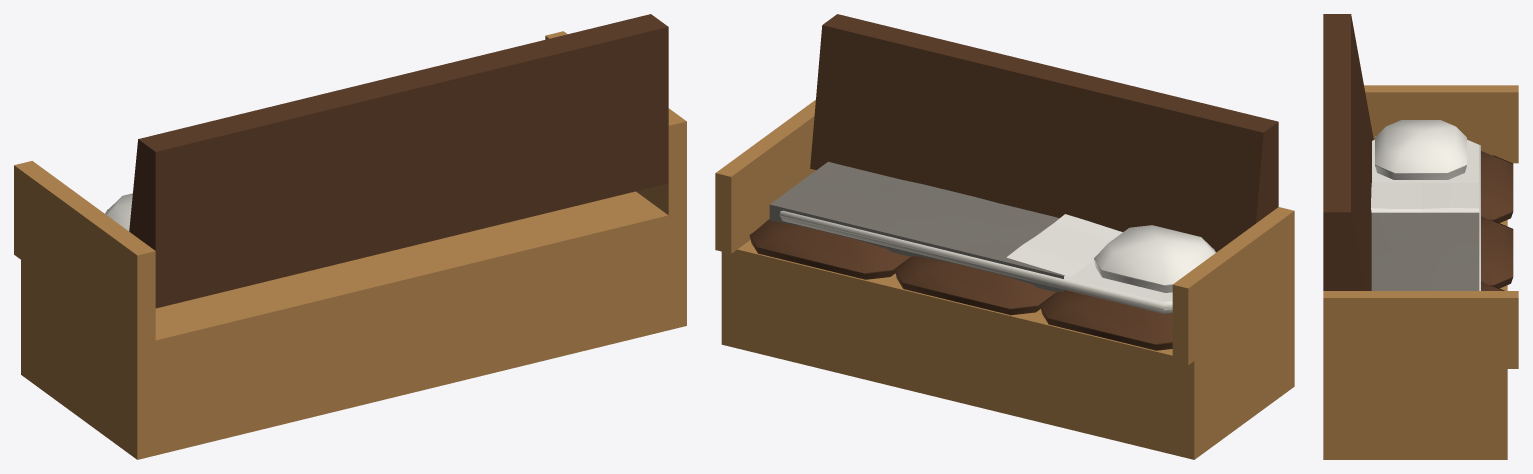
3 views of the same model, side by side, from view 1: azimuth 30°, elevation 25°; view 2: azimuth 150°, elevation 25°; view 3: azimuth 270°, elevation 25° (orthographic). The views are drawn at different scales.
Visible parts, largest first — view 1: parametric-variant-settee-crew-59205b3fe6f62d9334f2; view 2: parametric-variant-settee-crew-59205b3fe6f62d9334f2; view 3: parametric-variant-settee-crew-59205b3fe6f62d9334f2.
Part boxes in pixels (x1,y1,x2,y2): parametric-variant-settee-crew-59205b3fe6f62d9334f2: [14, 14, 686, 459]; parametric-variant-settee-crew-59205b3fe6f62d9334f2: [715, 14, 1294, 459]; parametric-variant-settee-crew-59205b3fe6f62d9334f2: [1323, 14, 1518, 459].
Size of the model in its own units: 1.8 by 0.95 by 0.7.
